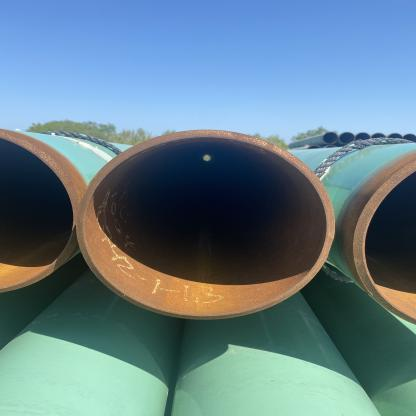clean: (184, 120, 216, 152)
